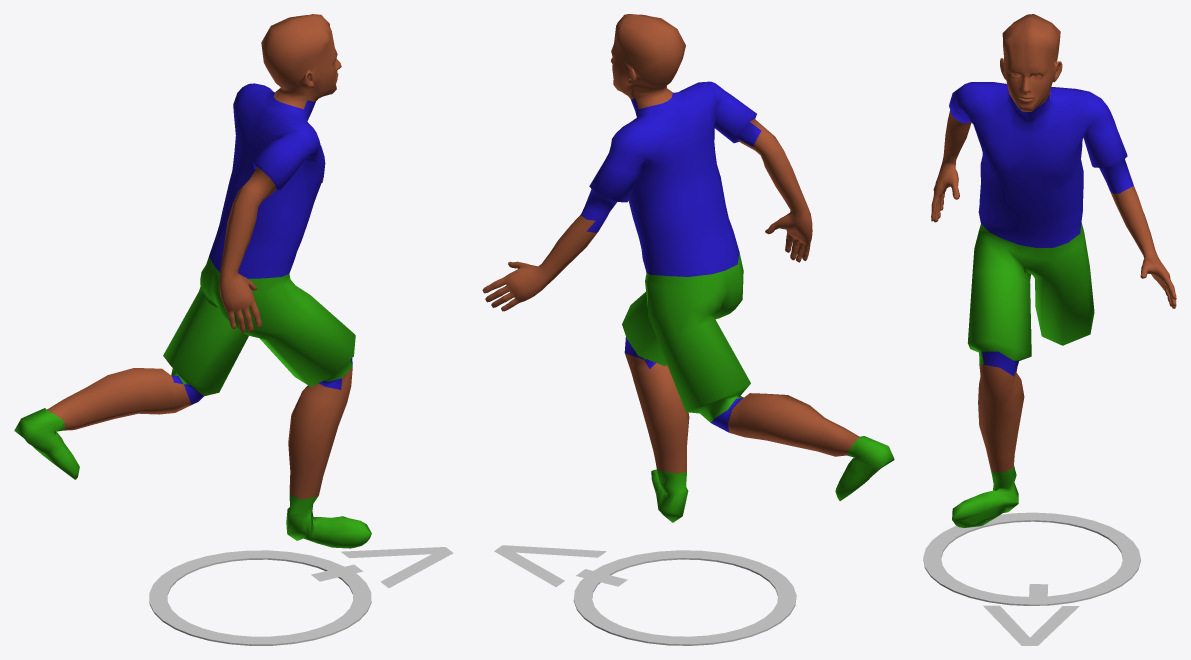
The model's file is playerAI_000014.obj.
3 views of the same model, side by side, from view 1: azimuth 30°, elevation 25°; view 2: azimuth 150°, elevation 25°; view 3: azimuth 270°, elevation 25° (orthographic). The views are drawn at different scales.
Visible parts, largest first — view 1: soccerplayer.003_mesh.002, Circle.001, Text_Mesh; view 2: soccerplayer.003_mesh.002, Circle.001, Text_Mesh; view 3: soccerplayer.003_mesh.002, Circle.001, Text_Mesh.
Boxes of the visible parts, x1,y1,x2,y2 form: soccerplayer.003_mesh.002: [14, 14, 371, 548]; Circle.001: [149, 550, 371, 645]; Text_Mesh: [311, 547, 453, 587]; soccerplayer.003_mesh.002: [482, 14, 894, 522]; Circle.001: [573, 550, 796, 645]; Text_Mesh: [494, 545, 627, 586]; soccerplayer.003_mesh.002: [931, 14, 1176, 527]; Circle.001: [923, 512, 1140, 605]; Text_Mesh: [983, 584, 1079, 645].
Bounding box in the file's own units: 2.31 × 3.07 × 1.27.
